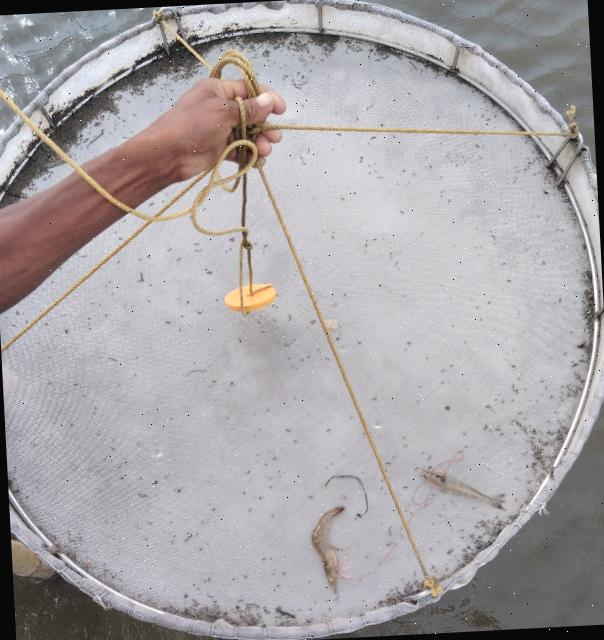shrimp: (417, 467, 503, 508), (312, 507, 345, 592)
